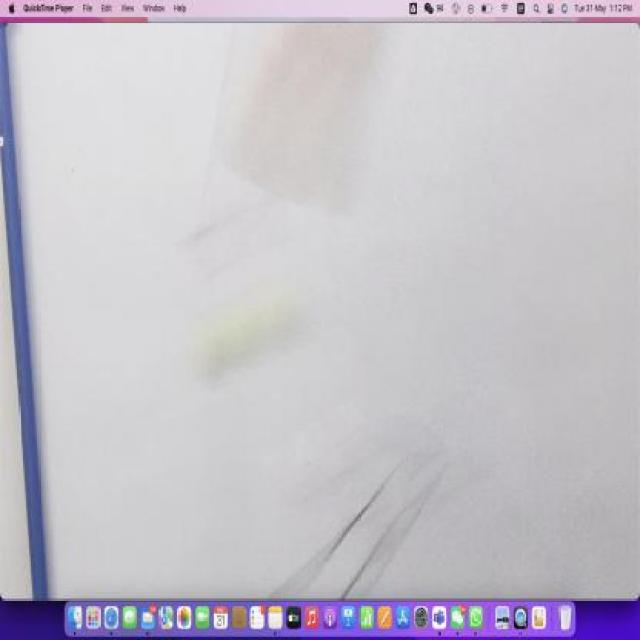baseball: (192, 288, 316, 386)
